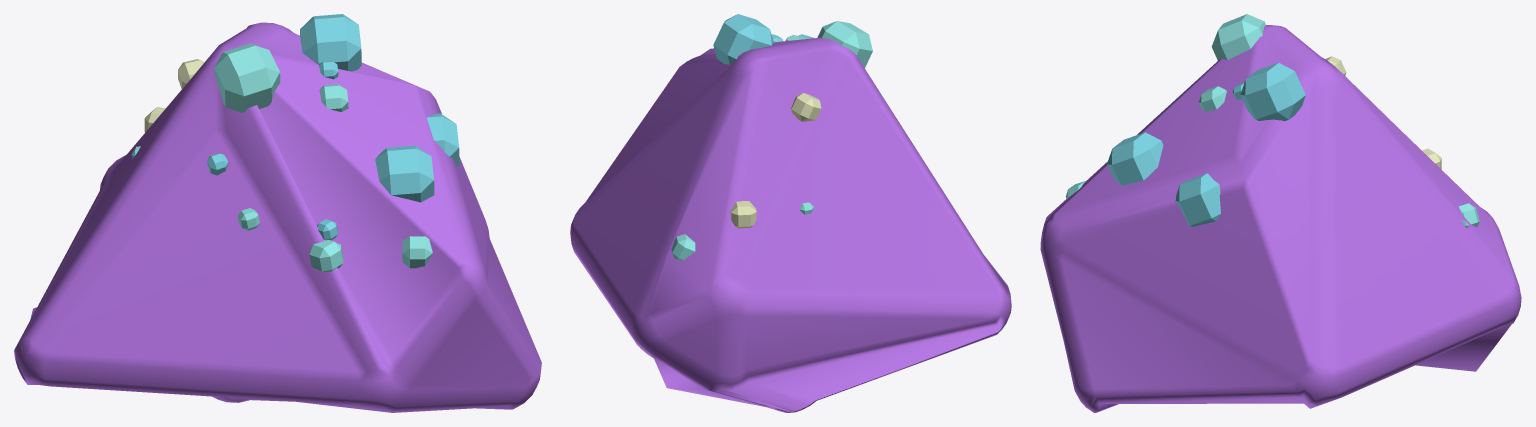
The model's file is Bush2.fbx.
The picture shows the model from 3 angles, left to right: view 1: azimuth 30°, elevation 25°; view 2: azimuth 150°, elevation 25°; view 3: azimuth 270°, elevation 25°; orthographic projection. The views are drawn at different scales.
Visible parts, largest first — view 1: group11_pasted__group3_pasted__pasted__pCube1; view 2: group11_pasted__group3_pasted__pasted__pCube1; view 3: group11_pasted__group3_pasted__pasted__pCube1.
Boxes of the visible parts, left/top/right/bottom form: group11_pasted__group3_pasted__pasted__pCube1: left=14, top=14, right=541, bottom=412; group11_pasted__group3_pasted__pasted__pCube1: left=570, top=14, right=1011, bottom=412; group11_pasted__group3_pasted__pasted__pCube1: left=1040, top=14, right=1521, bottom=412.
Size of the model in its own units: 2.36 by 1.7 by 2.25.
